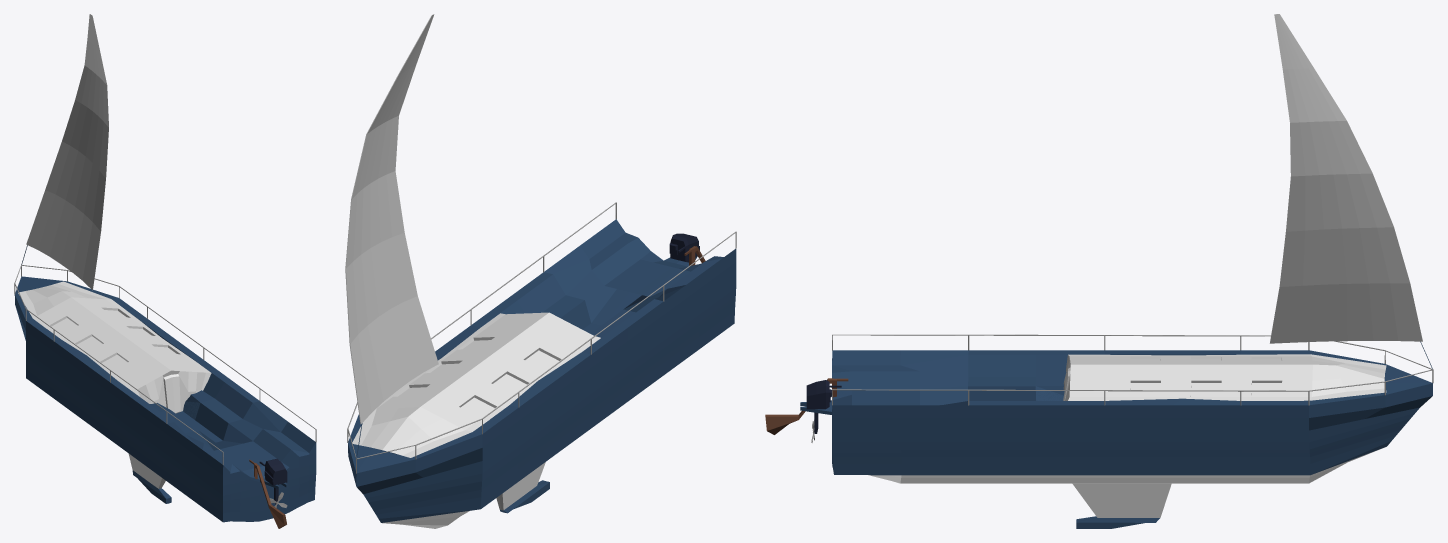
File: kuba_boat_base.glb
3 views of the same model, side by side, from view 1: azimuth 30°, elevation 25°; view 2: azimuth 150°, elevation 25°; view 3: azimuth 270°, elevation 25° (orthographic). The views are drawn at different scales.
Parts seen in each view (by area): view 1: Pokład.001, Maszt.005, Dach.001, Relingi, Silnik, ster; view 2: Pokład.001, Maszt.005, Dach.001, Relingi, Silnik; view 3: Pokład.001, Maszt.005, Dach.001, Relingi, Silnik.
Boxes of the visible parts, left/top/right/bottom form: Pokład.001: left=14, top=276, right=316, bottom=522; Maszt.005: left=26, top=14, right=108, bottom=290; Dach.001: left=18, top=281, right=211, bottom=413; Relingi: left=14, top=265, right=316, bottom=464; Silnik: left=259, top=458, right=287, bottom=504; ster: left=249, top=459, right=286, bottom=528; Pokład.001: left=348, top=219, right=736, bottom=528; Maszt.005: left=345, top=14, right=438, bottom=424; Dach.001: left=352, top=312, right=600, bottom=457; Relingi: left=347, top=202, right=736, bottom=473; Silnik: left=669, top=233, right=699, bottom=262; Pokład.001: left=800, top=350, right=1432, bottom=528; Maszt.005: left=1269, top=14, right=1422, bottom=343; Dach.001: left=1063, top=354, right=1386, bottom=400; Relingi: left=832, top=334, right=1433, bottom=405; Silnik: left=806, top=380, right=841, bottom=433.
Bounding box in the file's own units: 2.39 × 10.34 × 12.12.
